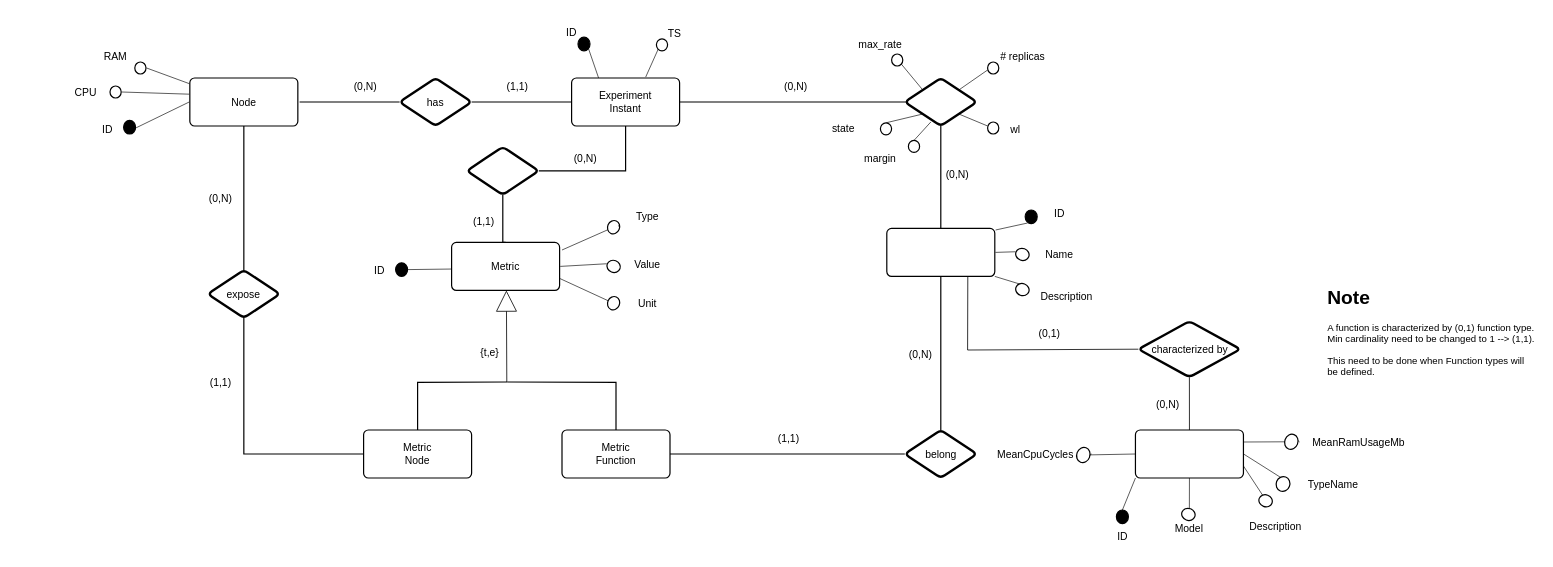
Image size: 1553x567. Some labels were removed from this diagram. Each missing label, with the centre of its shape:
"deploy" belongs at (x=940, y=101).
"Function" belongs at (x=940, y=252).
"FunctionType" belongs at (x=1189, y=453).
"gather" belongs at (x=502, y=170).
